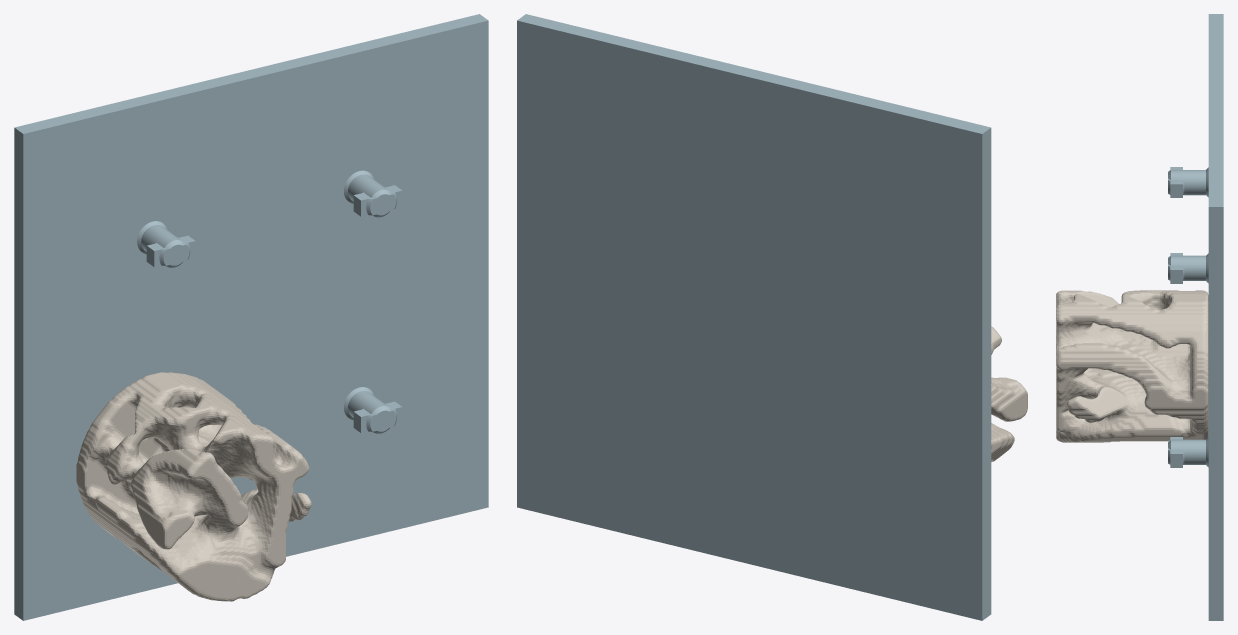
The model's file is bayonet_assembly.glb.
The picture shows the model from 3 angles, left to right: view 1: azimuth 30°, elevation 25°; view 2: azimuth 150°, elevation 25°; view 3: azimuth 270°, elevation 25°; orthographic projection. The views are drawn at different scales.
Visible parts, largest first — view 1: base_plate, coral_locked; view 2: base_plate, coral_locked; view 3: coral_locked, base_plate.
Part boxes in pixels (box(x1,y1,x2,y2)): base_plate: box(14, 14, 488, 620); coral_locked: box(76, 372, 311, 601); base_plate: box(517, 14, 991, 620); coral_locked: box(991, 326, 1027, 461); coral_locked: box(1056, 290, 1208, 442); base_plate: box(1168, 14, 1223, 620).
Bounding box in the file's own units: 90 × 90 × 33.
